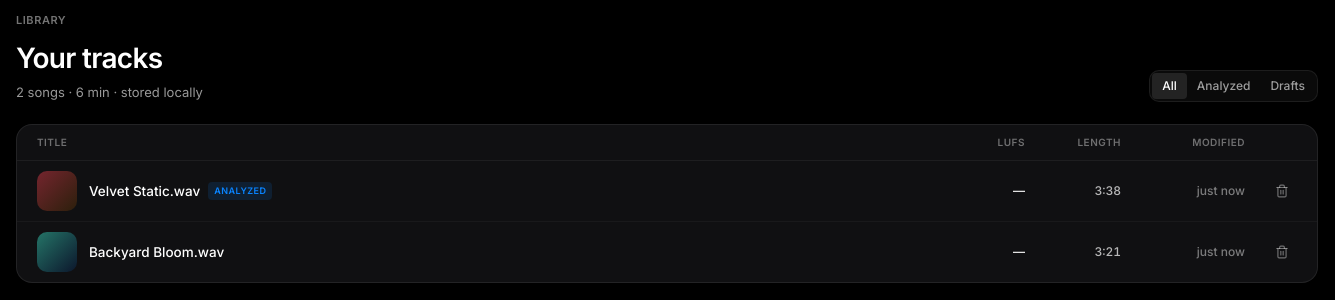
Test: LibraryView › filters to drafts when 'Drafts' is selected
The width and height of the screenshot is (1335, 300).
Click the tab "Drafts" at point(1288, 86), box [1260,73,1315,99]
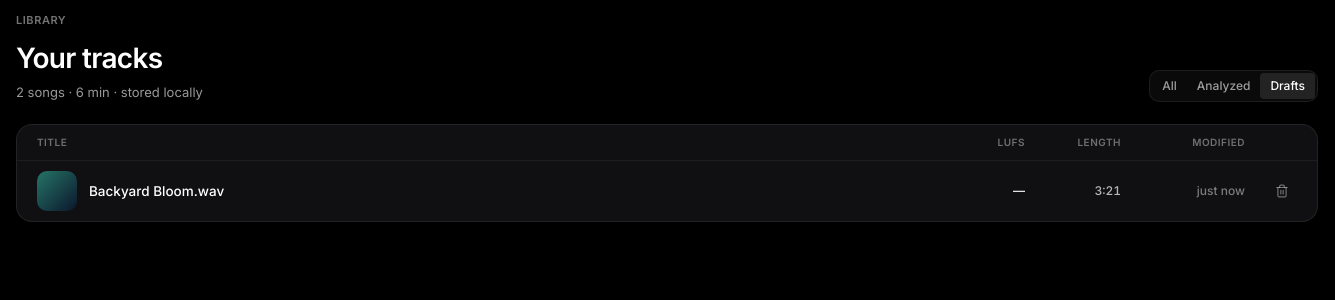
Expected: the text "Backyard Bloom.wav" is shown, [89,181,224,201]
Expected: the number of list items with test id "library-row" is 1, [1267,176,1297,206]
